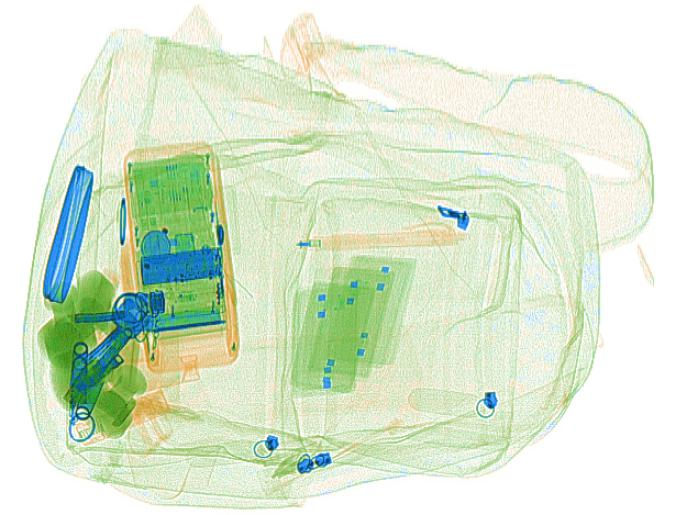battery: (139, 245, 221, 286)
seal: (37, 269, 148, 438)
